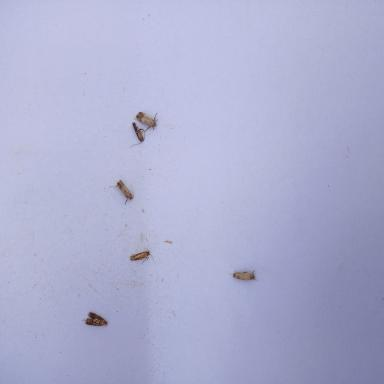pbw: (115, 179, 134, 205), (134, 112, 158, 132), (129, 248, 156, 264), (228, 266, 258, 280), (130, 122, 145, 148), (81, 312, 108, 326)
